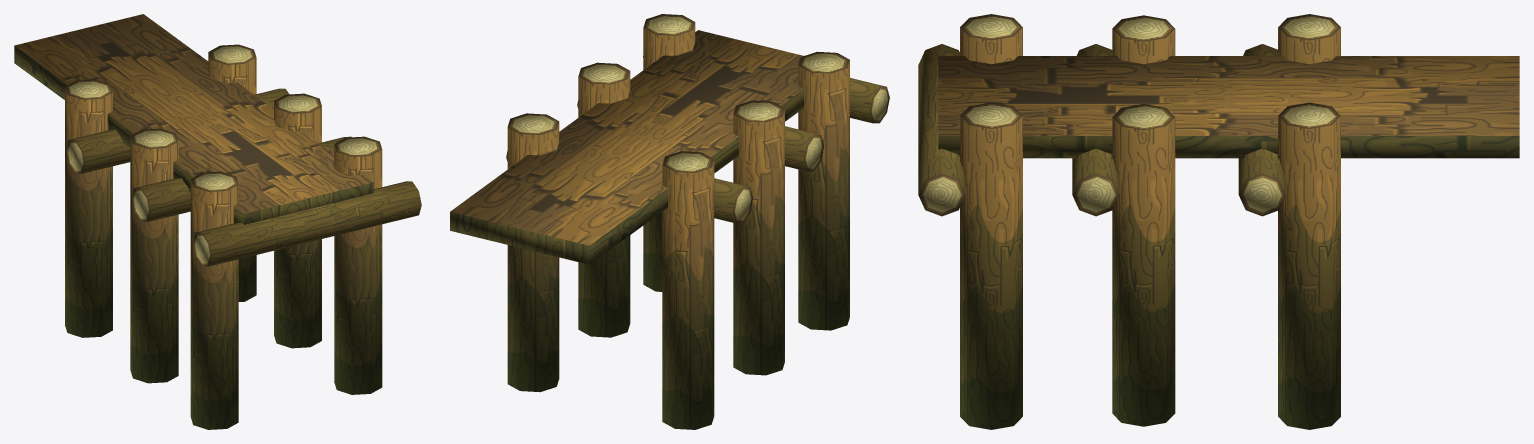
Rendered from Port.fbx.
3 views of the same model, side by side, from view 1: azimuth 30°, elevation 25°; view 2: azimuth 150°, elevation 25°; view 3: azimuth 270°, elevation 25° (orthographic). The views are drawn at different scales.
Parts seen in each view (by area): view 1: Cube; view 2: Cube; view 3: Cube.
Part boxes in pixels (x1,y1,x2,y2): Cube: (14,14,421,429); Cube: (450,14,889,429); Cube: (918,14,1519,429).
Size of the model in its own units: 394 by 426 by 773.
Materials: 1 (1 with a texture image).
